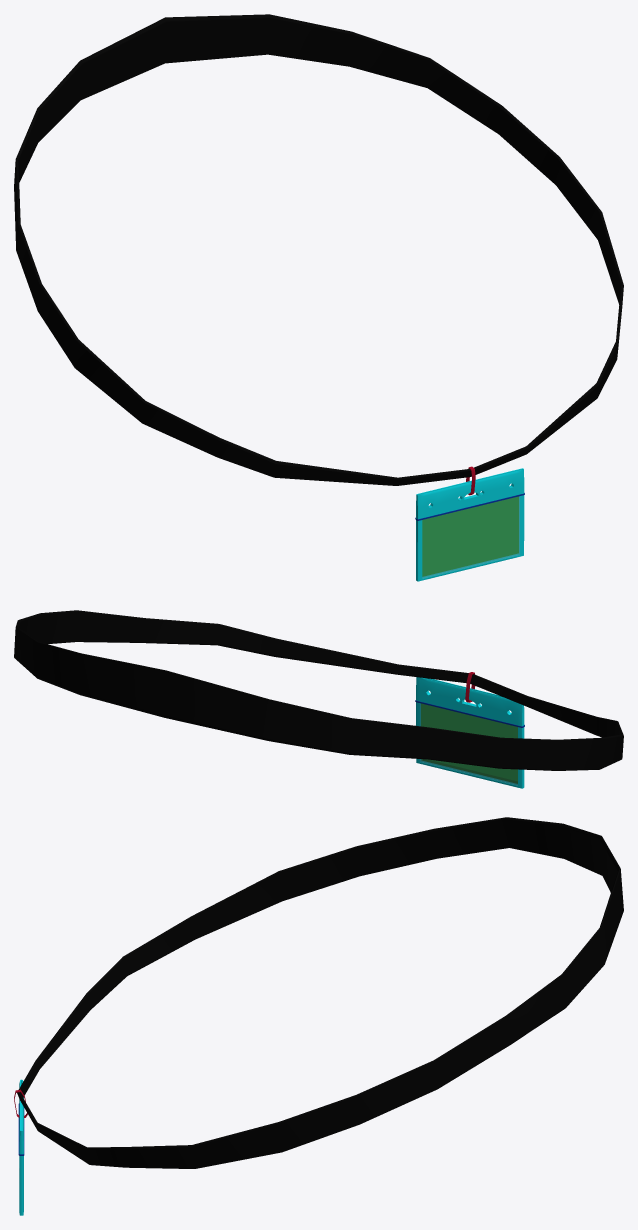
The model's file is convension badge.fbx.
The picture shows the model from 3 angles, top to bottom: view 1: azimuth 30°, elevation 25°; view 2: azimuth 150°, elevation 25°; view 3: azimuth 270°, elevation 25°; orthographic projection.
Parts seen in each view (by area): view 1: pPlane9; view 2: pPlane9; view 3: pPlane9.
Boxes of the visible parts, box(x1,y1,x2,y2) form: pPlane9: box(14, 14, 623, 581); pPlane9: box(14, 610, 623, 788); pPlane9: box(14, 817, 623, 1215).
Size of the model in its own units: 562 by 335 by 574.
